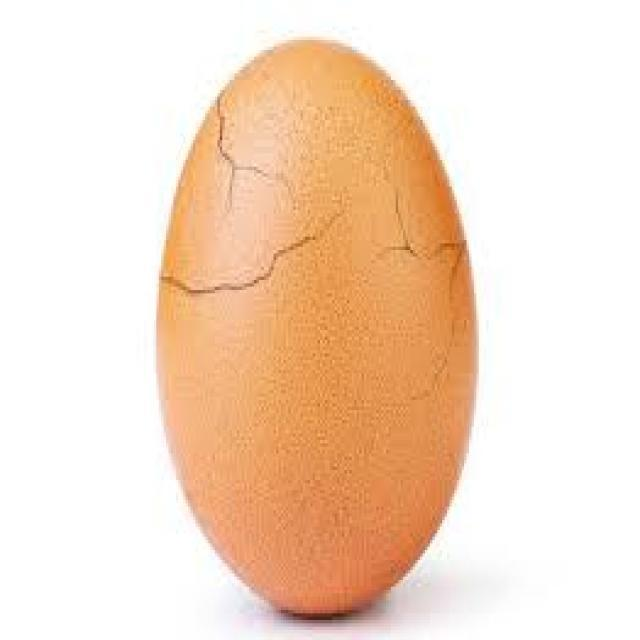biodegradable: (152, 29, 482, 622)
